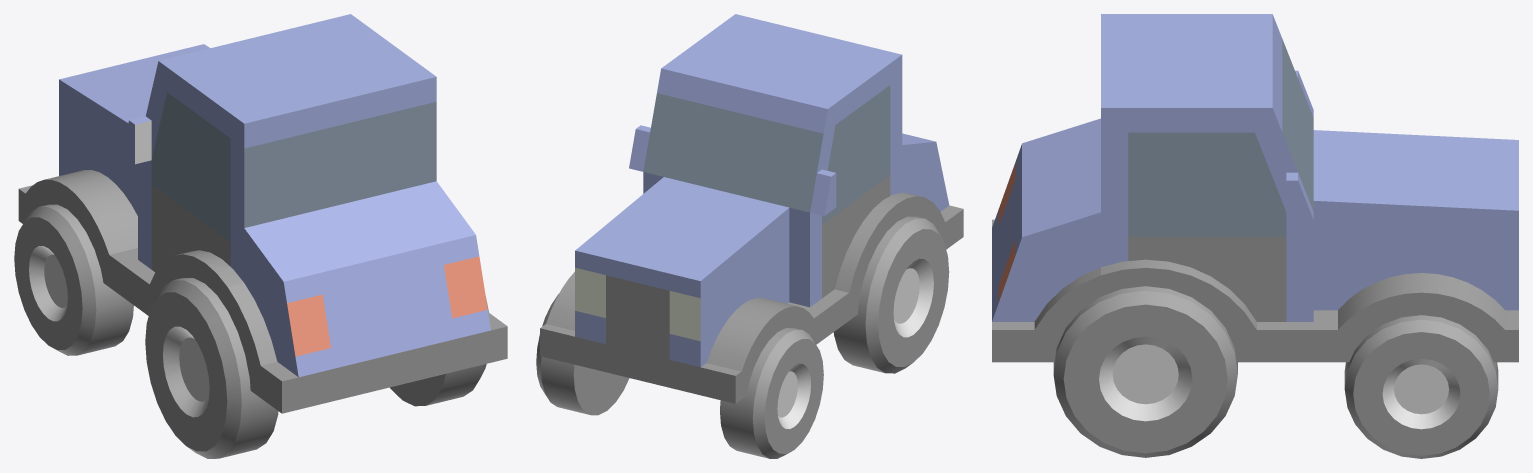
Rendered from carTractor.gltf.
3 views of the same model, side by side, from view 1: azimuth 30°, elevation 25°; view 2: azimuth 150°, elevation 25°; view 3: azimuth 270°, elevation 25° (orthographic). The views are drawn at different scales.
Visible parts, largest first — view 1: body 12, wheelBackLeft 12, wheelFrontLeft 12, wheelBackRight 12; view 2: body 12, wheelBackLeft 12, wheelFrontLeft 12, wheelFrontRight 12; view 3: body 12, wheelBackRight 12, wheelFrontRight 12.
Boxes of the visible parts, x1,y1,x2,y2 form: body 12: (18,14,507,413); wheelBackLeft 12: (145,278,278,458); wheelFrontLeft 12: (14,204,133,355); wheelBackRight 12: (390,296,488,406); body 12: (540,14,963,403); wheelBackLeft 12: (833,216,949,373); wheelFrontLeft 12: (720,328,823,458); wheelFrontRight 12: (536,294,629,415); body 12: (992,14,1518,362); wheelBackRight 12: (1053,286,1237,457); wheelFrontRight 12: (1344,315,1498,458).
Size of the model in its own units: 0.555 by 0.6825 by 0.96.
